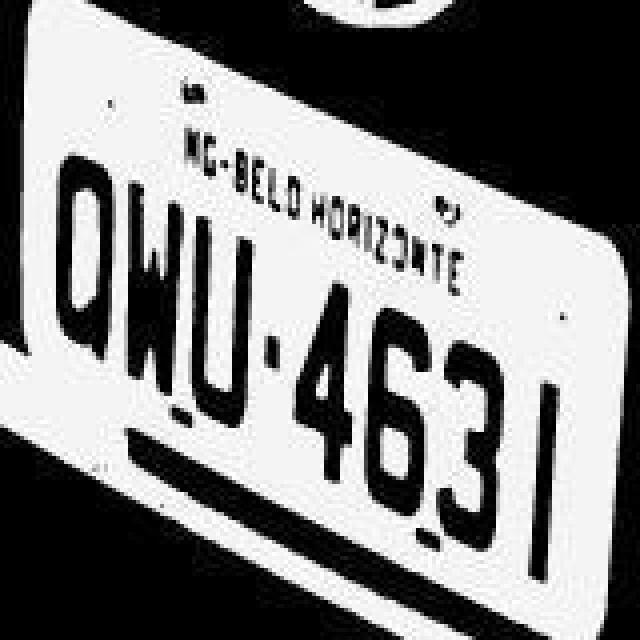1: (514, 364, 566, 588)
3: (438, 324, 506, 556)
4: (288, 274, 360, 494)
6: (364, 294, 436, 522)
Q: (48, 146, 128, 366)
U: (182, 196, 258, 428)
W: (122, 160, 182, 392)
